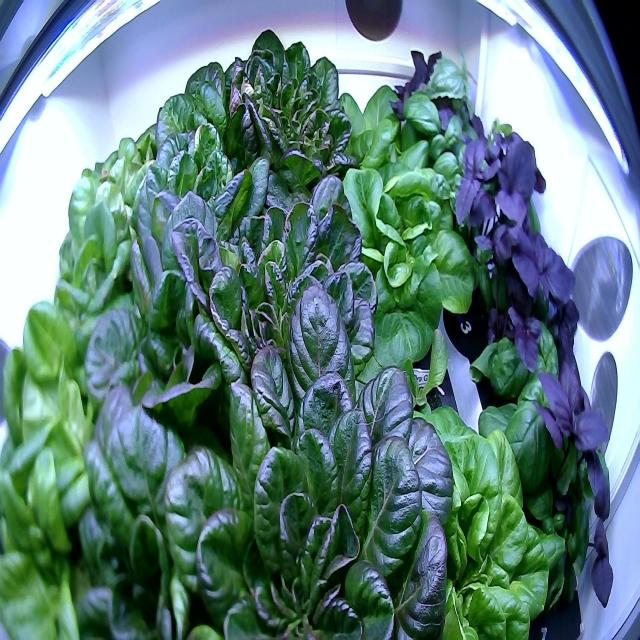Ready: (158, 338, 462, 640), (158, 125, 386, 438), (359, 366, 576, 640), (59, 353, 248, 640), (77, 219, 265, 448), (308, 154, 481, 395), (0, 283, 98, 639), (117, 116, 276, 318), (220, 20, 367, 211), (44, 169, 142, 354), (143, 32, 253, 188), (66, 104, 164, 258)
young: (320, 69, 432, 182), (379, 324, 456, 429)
